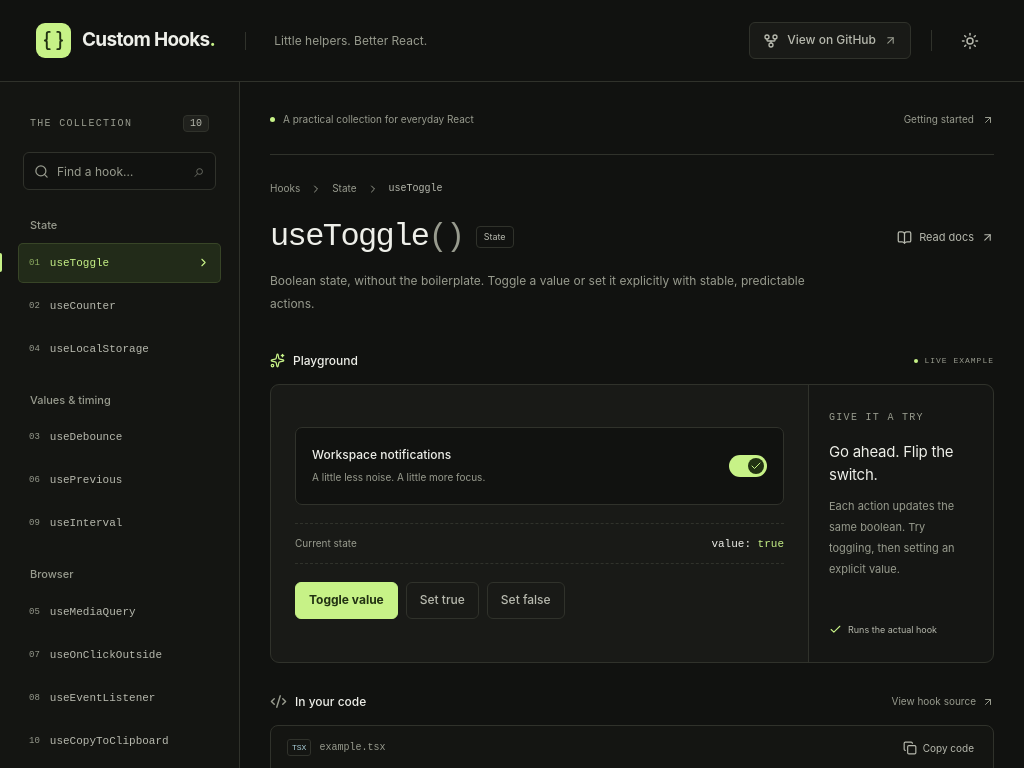
Test: playground › operates counter steps and reset
Click the link "02 useCounter". click: (72, 306)
box: [29, 300, 116, 312]
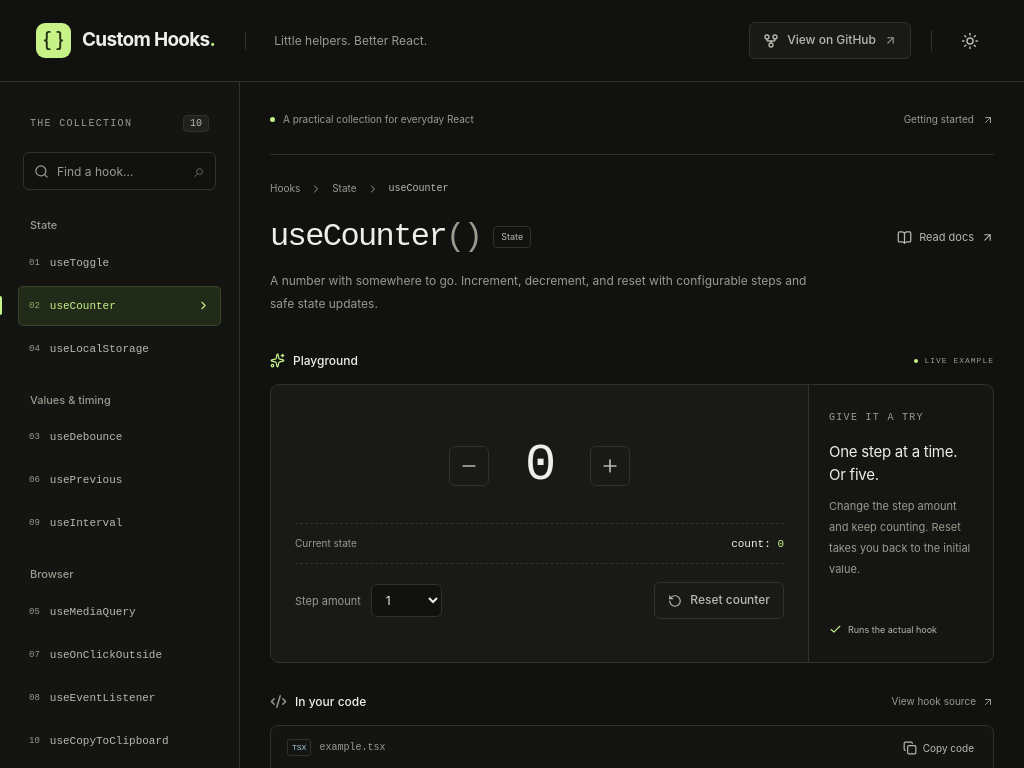
Select "5" in the dropdown labelled "Step amount". click: (406, 601)
box: [371, 584, 442, 617]
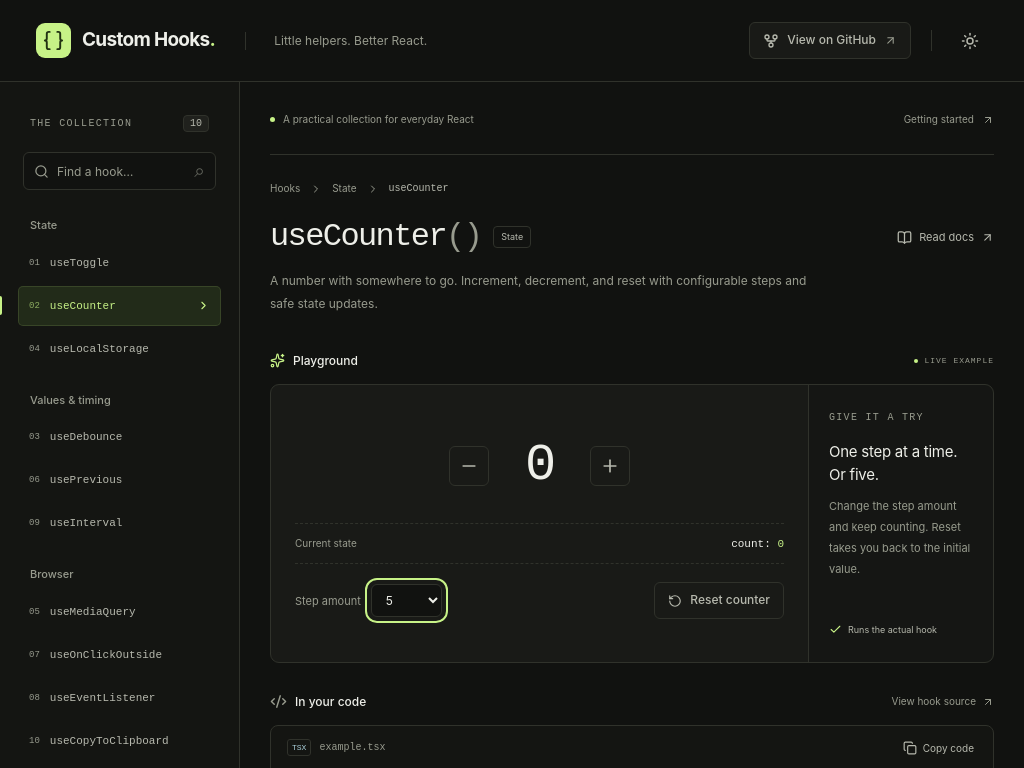
Click the button named "Increase count". click: (610, 466)
box: [590, 446, 630, 486]
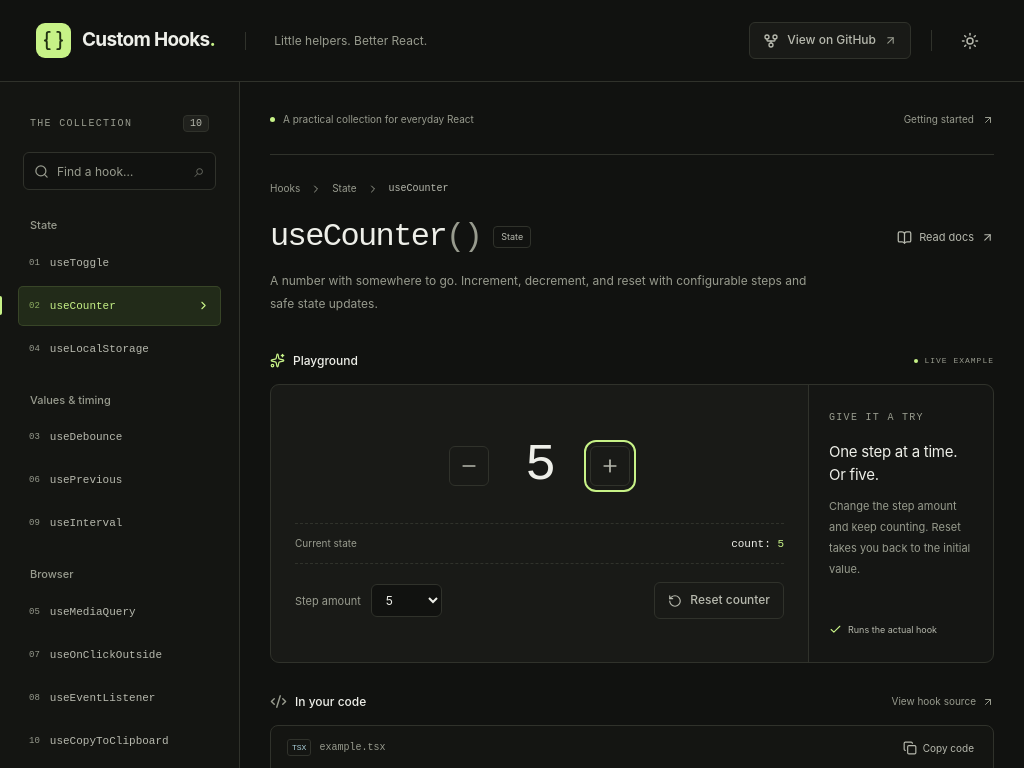
Expected: the text named "Counter value" reads "5", [525, 436, 554, 495]
Click the button named "Decrease count". click: (469, 466)
box: [449, 446, 489, 486]
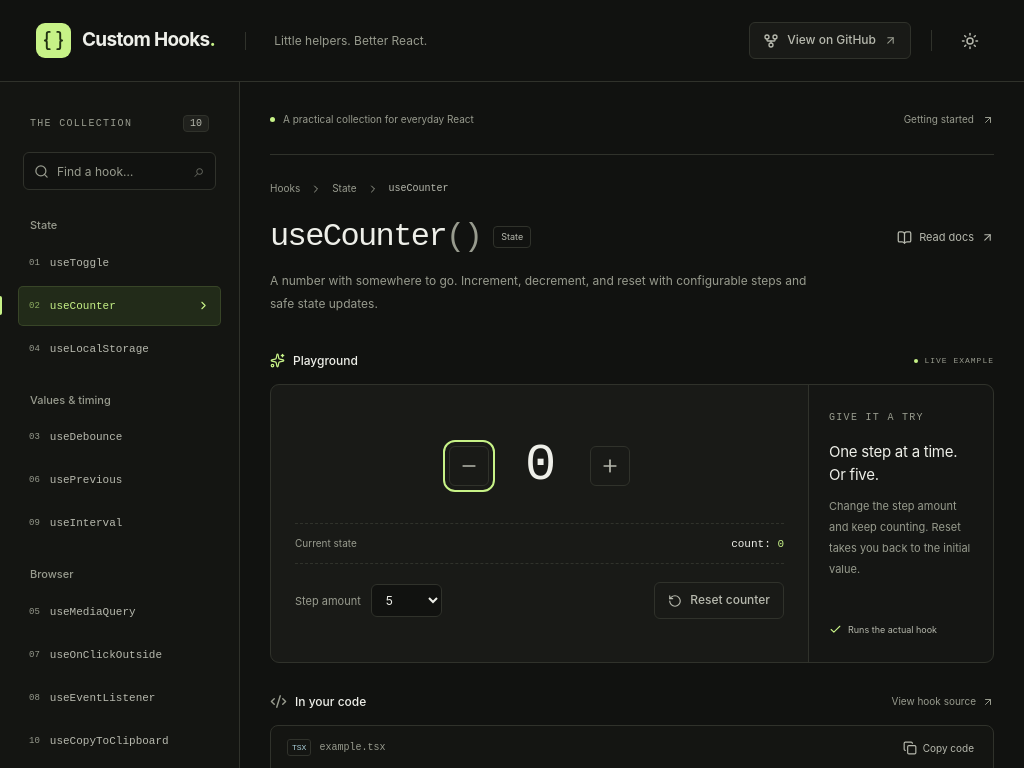
Expected: the text named "Counter value" reads "0", [525, 436, 554, 495]
Click the button named "Increase count". click: (610, 466)
box: [590, 446, 630, 486]
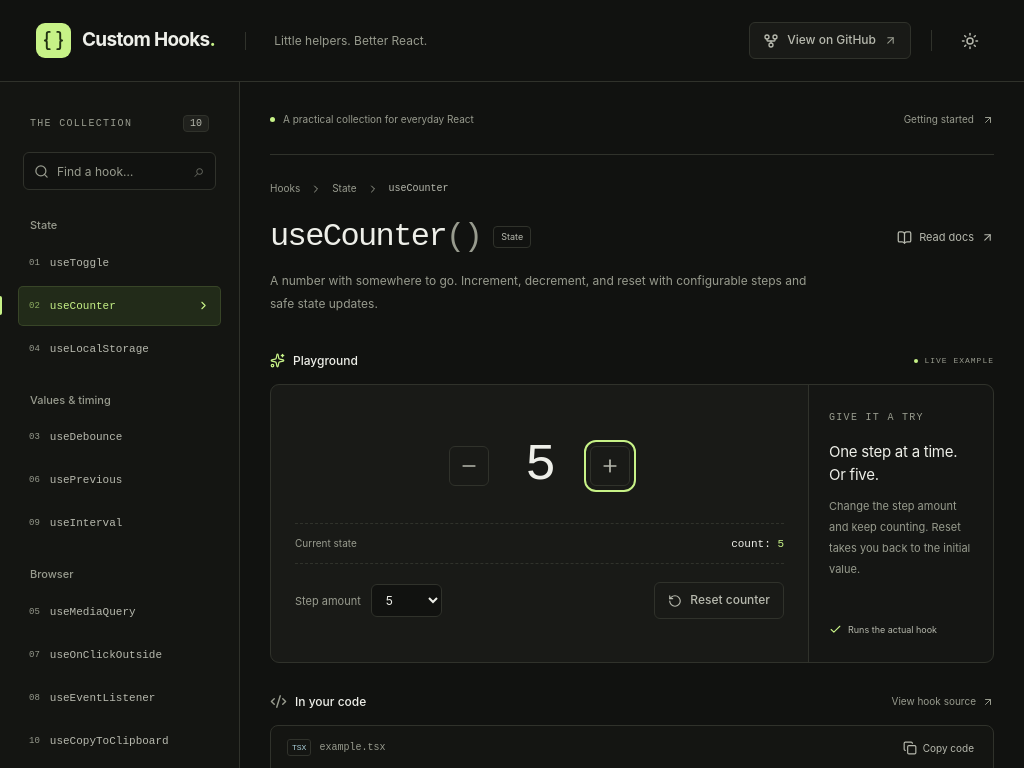
Click the button "Reset counter". click: (719, 601)
box: [654, 582, 784, 619]
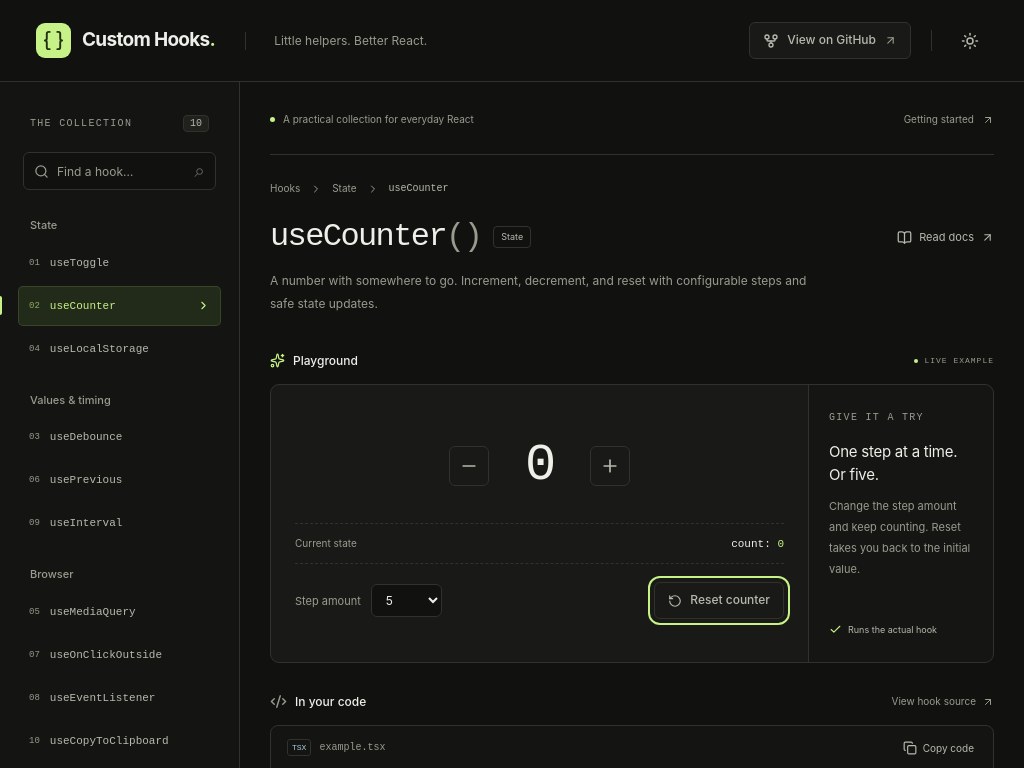
Expected: the text named "Counter value" reads "0", [525, 436, 554, 495]
